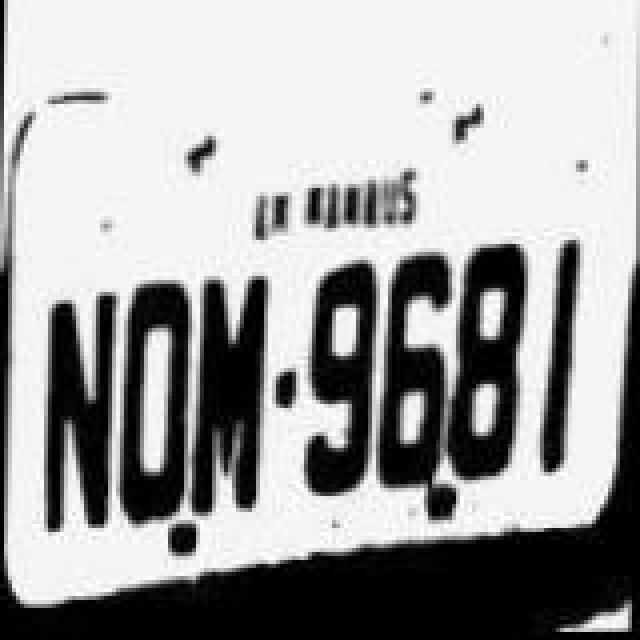1: (532, 234, 600, 498)
6: (370, 248, 458, 500)
8: (442, 230, 538, 498)
9: (298, 246, 386, 498)
M: (182, 266, 274, 526)
N: (32, 286, 120, 554)
O: (110, 276, 194, 532)
